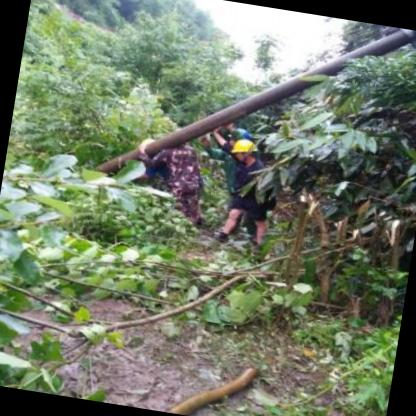helmet: (230, 135, 263, 167)
